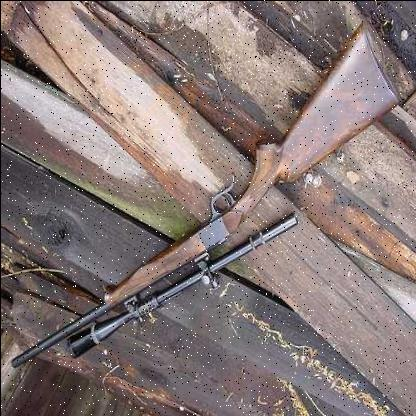rifle: (6, 1, 416, 385)
